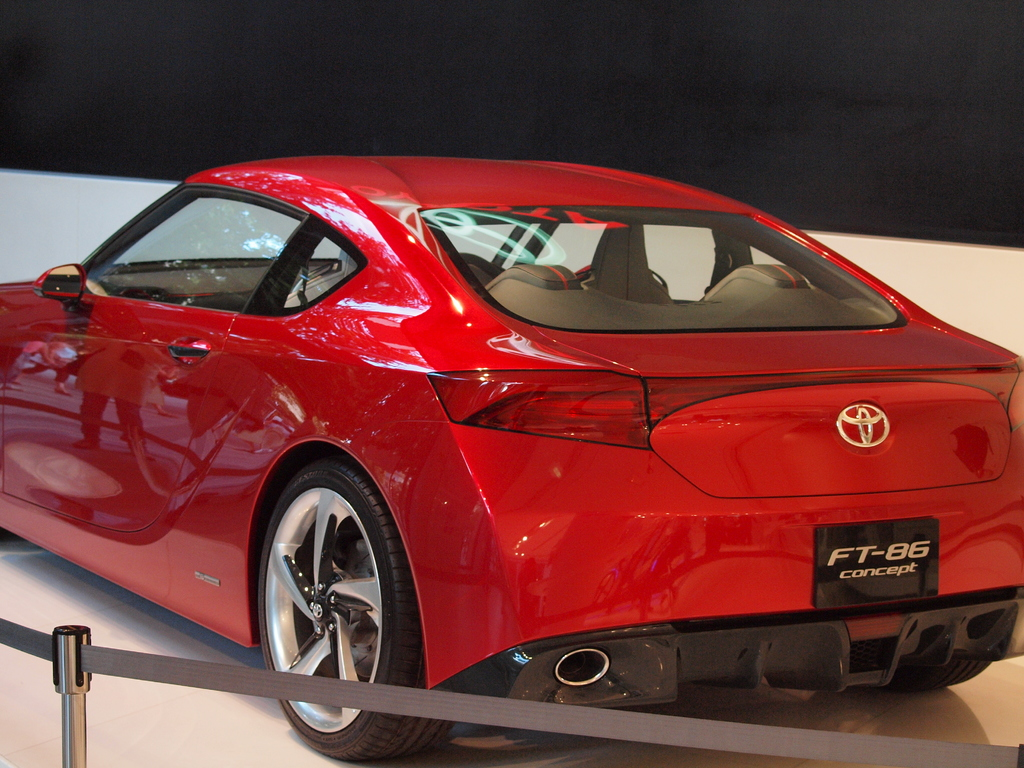person: (67, 282, 152, 453)
